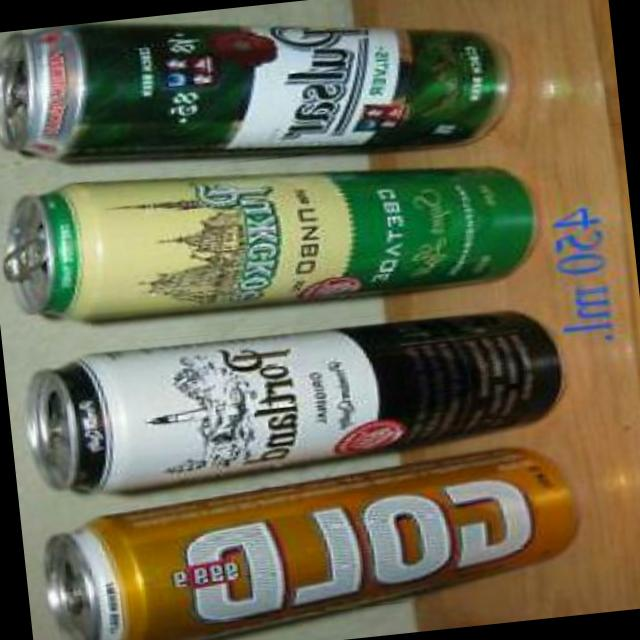metal: (40, 448, 569, 640), (22, 310, 554, 489), (1, 167, 532, 322), (0, 22, 503, 160)
